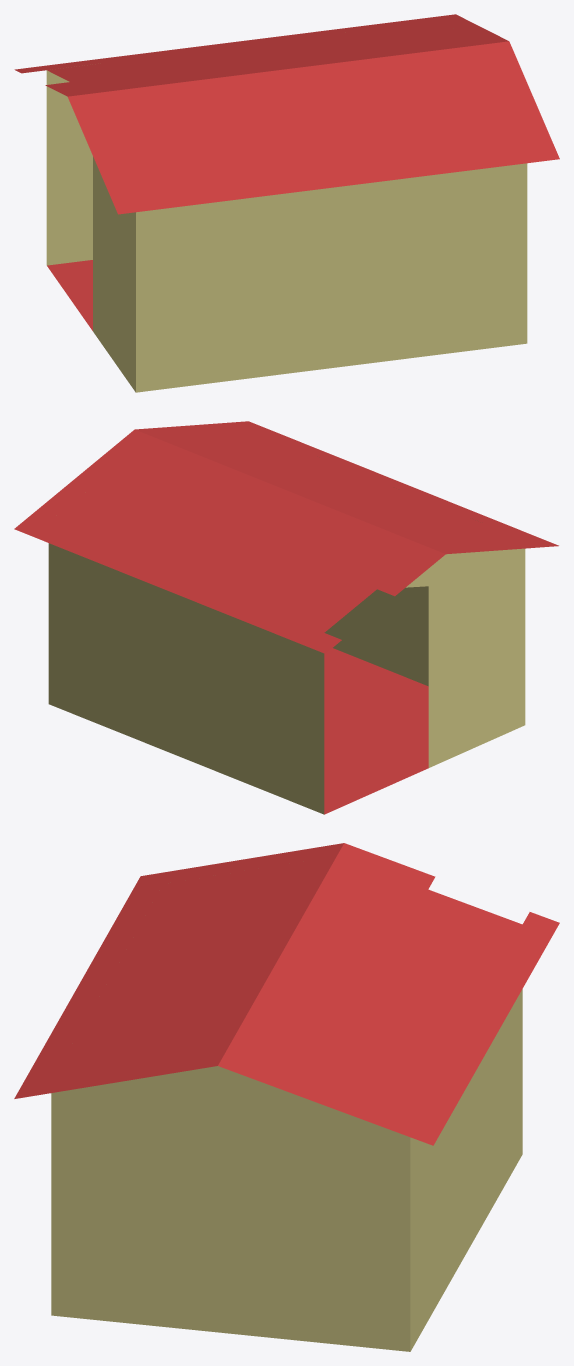
3 renders of one model, top to bottom at view 1: azimuth 30°, elevation 25°; view 2: azimuth 150°, elevation 25°; view 3: azimuth 270°, elevation 25°, orthographic. The views are drawn at different scales.
Bounding box in the file's own units: 15.2 × 13.21 × 7.47.
